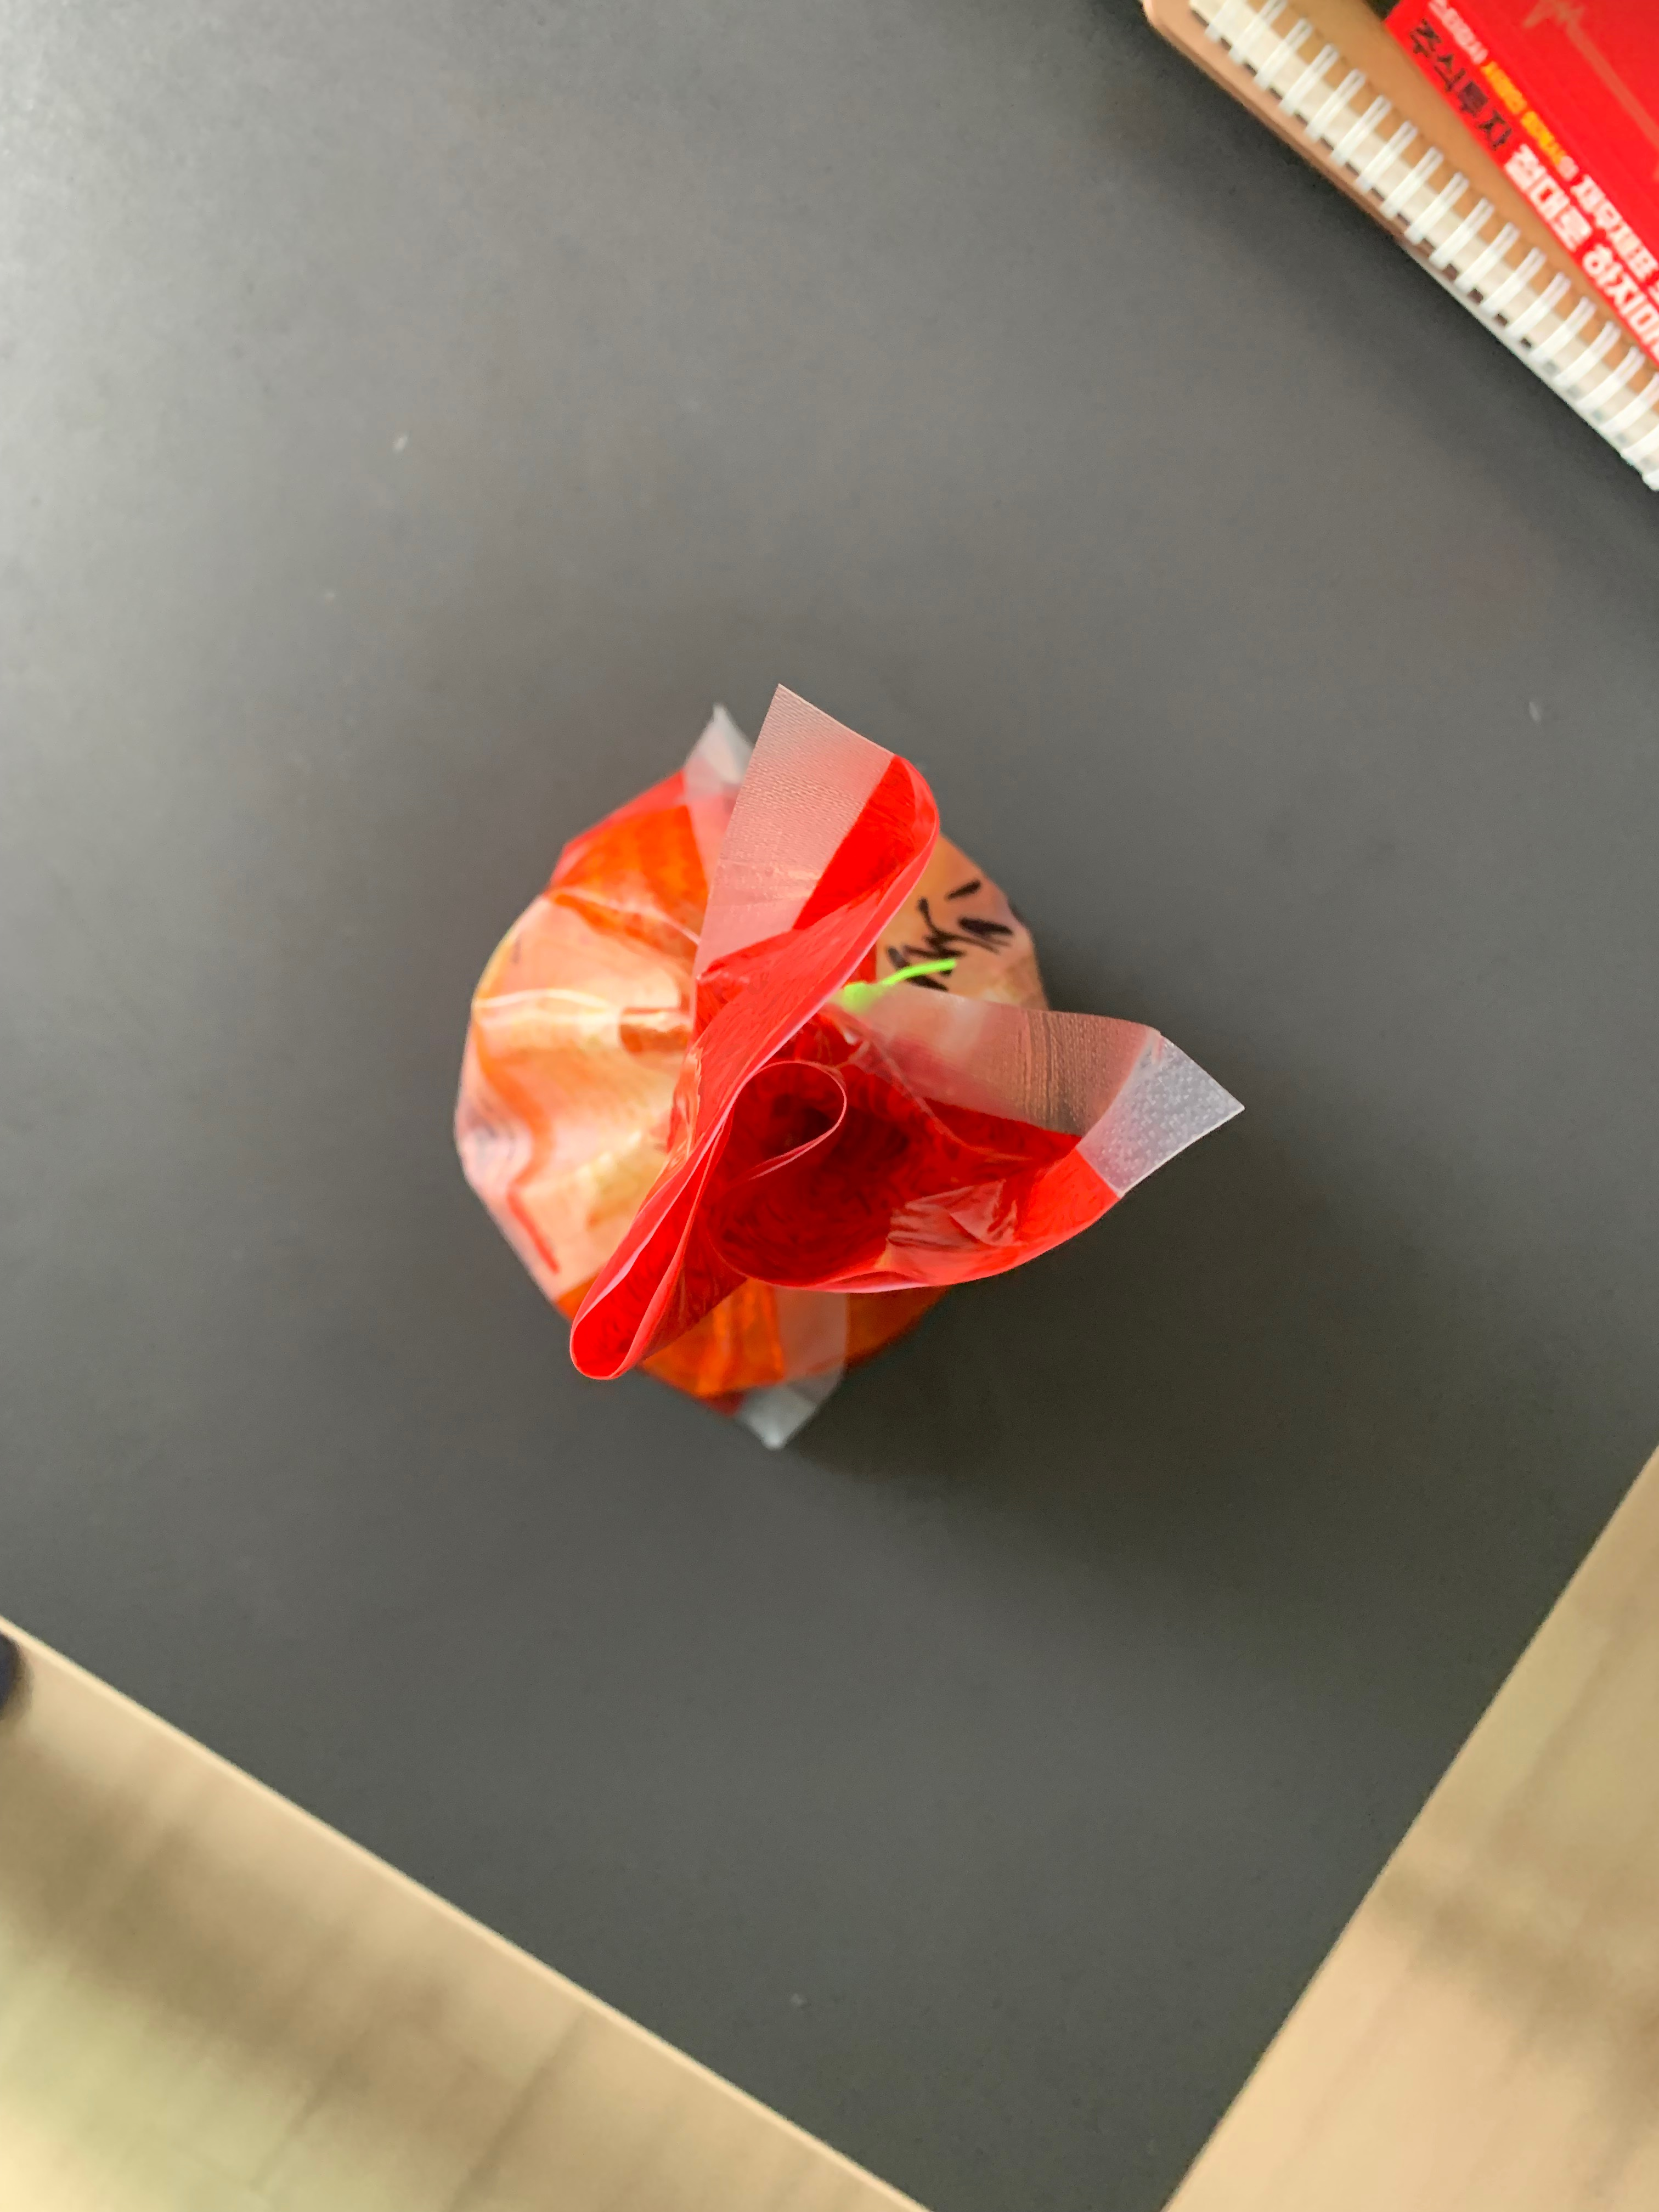kimchi: (465, 752, 1126, 1407)
